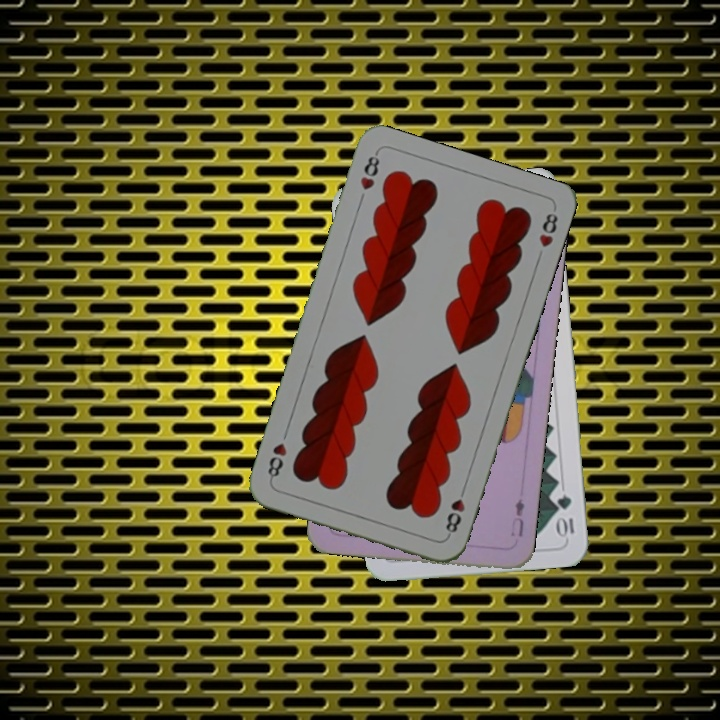EU: (507, 494, 527, 539)
G10: (553, 490, 577, 540)
H8: (441, 482, 469, 539), (356, 149, 382, 193)
